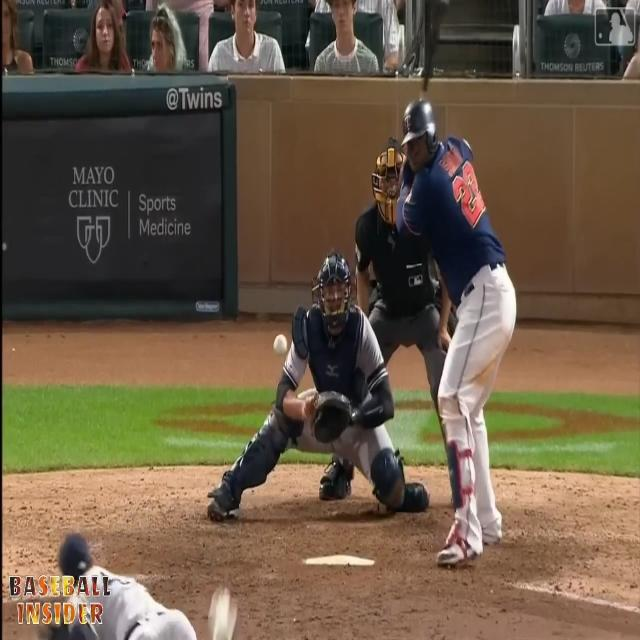baseball: (272, 332, 288, 358)
